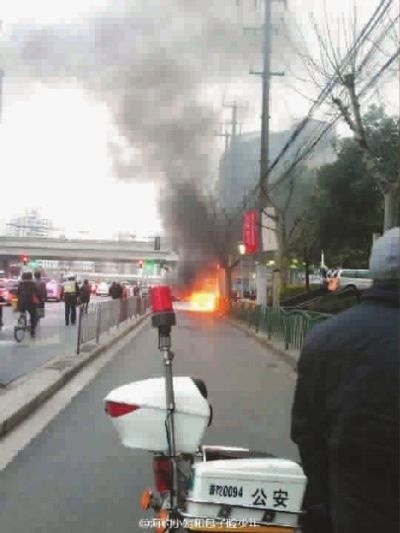fire: (181, 263, 226, 314)
